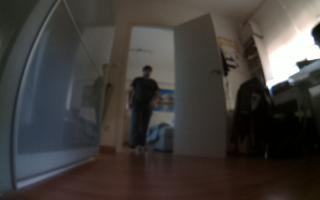person: (126, 60, 163, 155)
